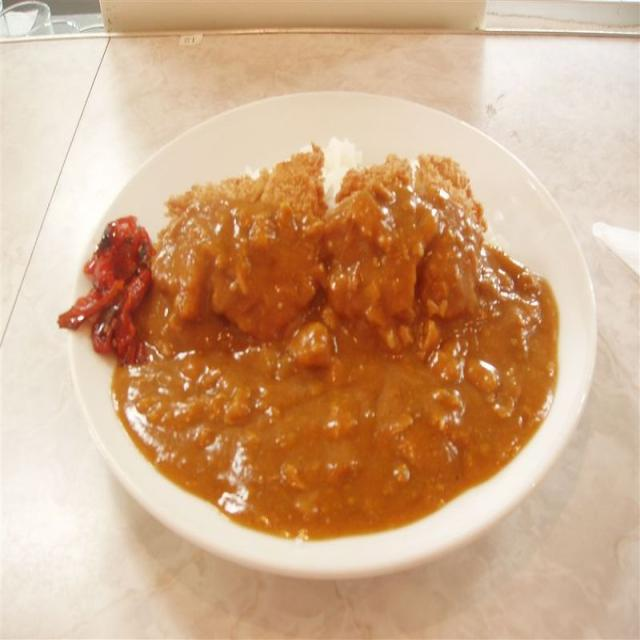猪肉菜式: (46, 64, 606, 593)
